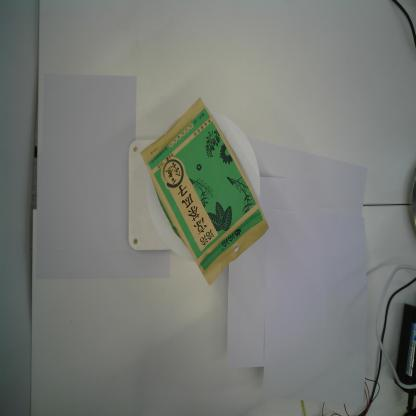Dried Food: (138, 96, 268, 289)
